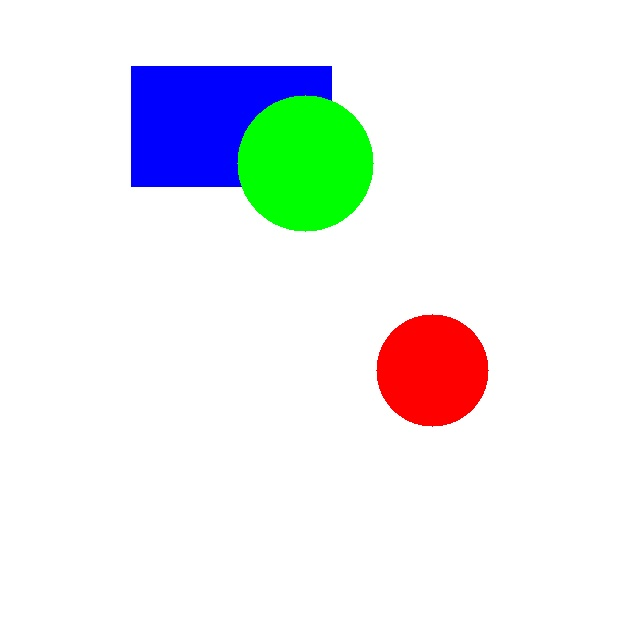cartao: (131, 66, 331, 186)
rosca_externa: (237, 95, 373, 231)
rosca_interna: (376, 314, 488, 426)
